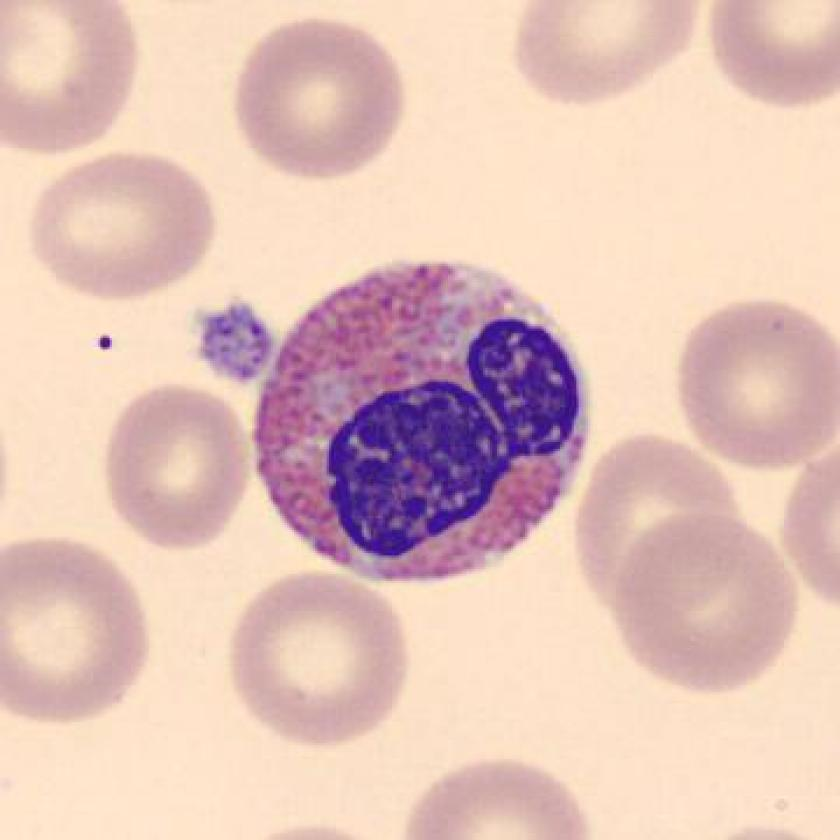eosinophil: (239, 242, 612, 598)
